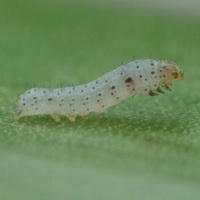insect: (15, 59, 183, 120)
